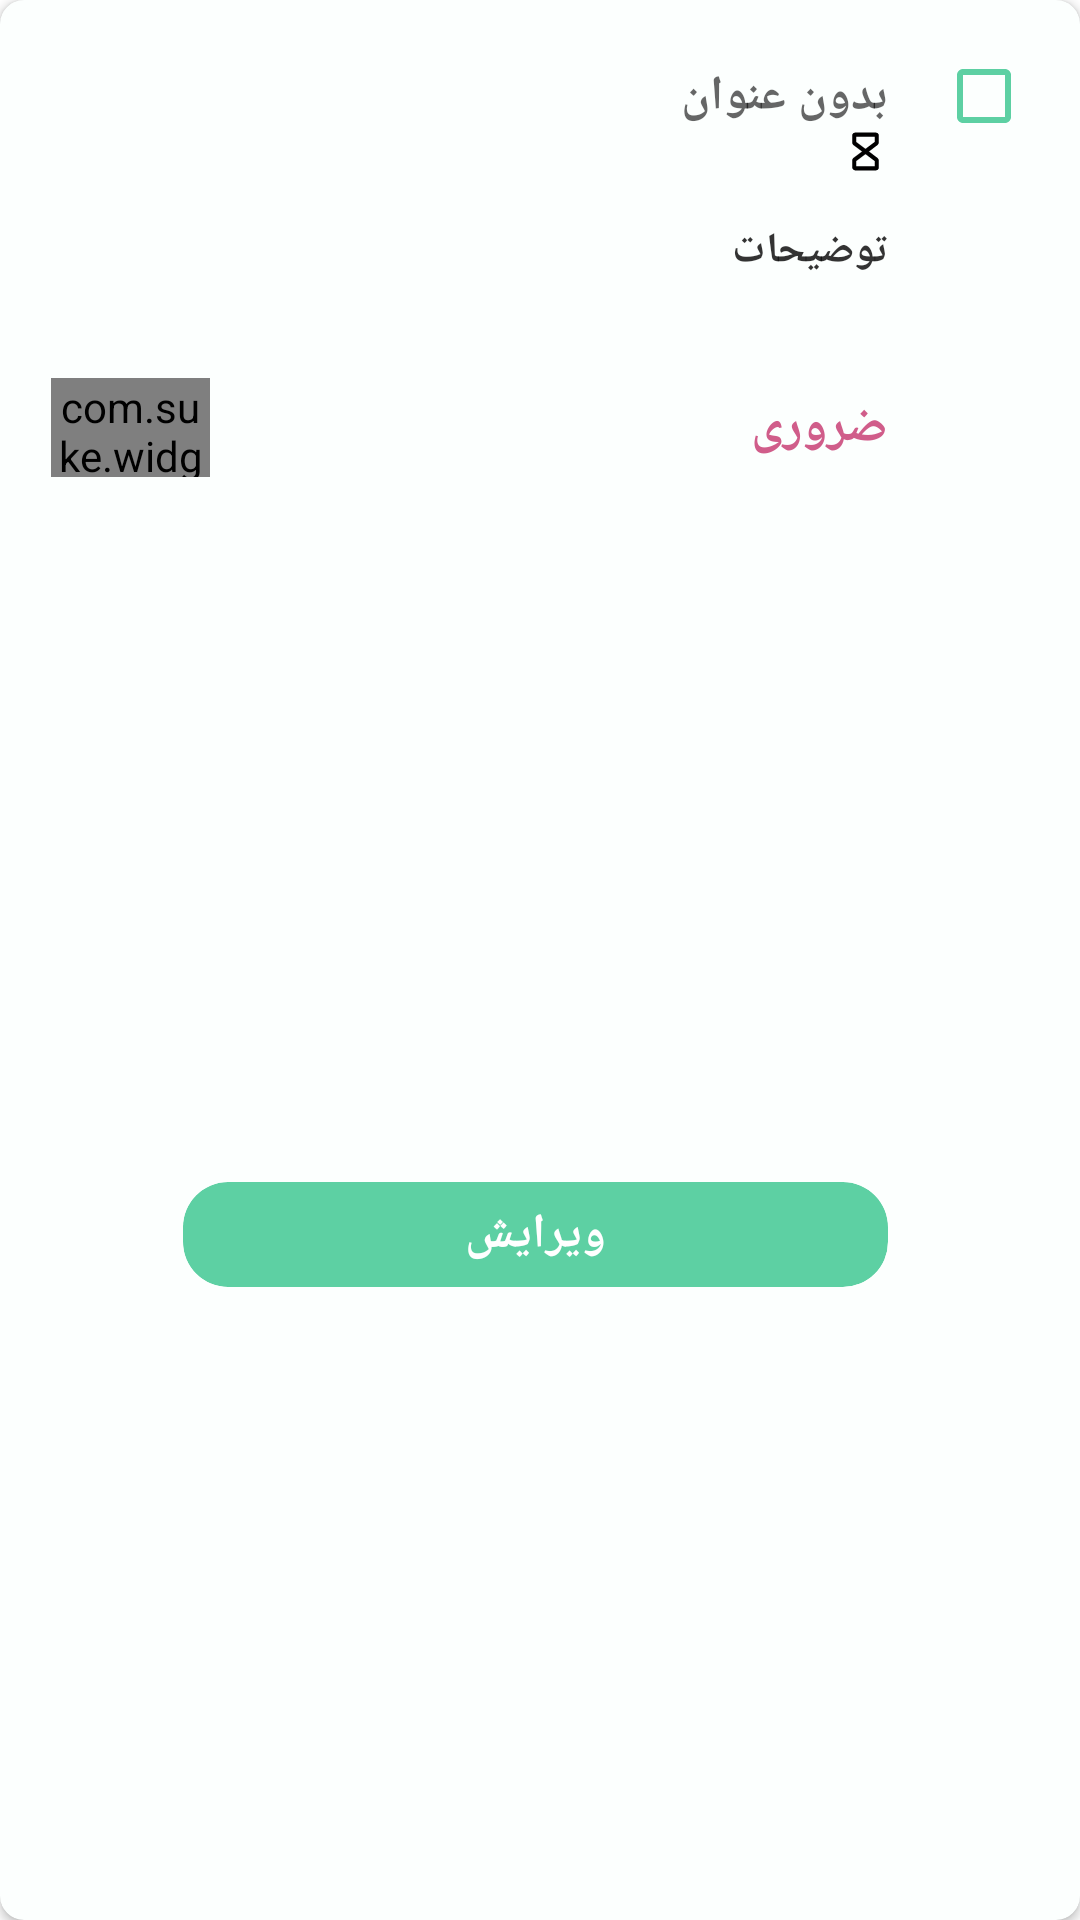

Named icons in this screenshot (1080*1920) and their bounding boxes, BBox(x1, y1, x2, y2):
hourglass: BBox(852, 132, 879, 171)
